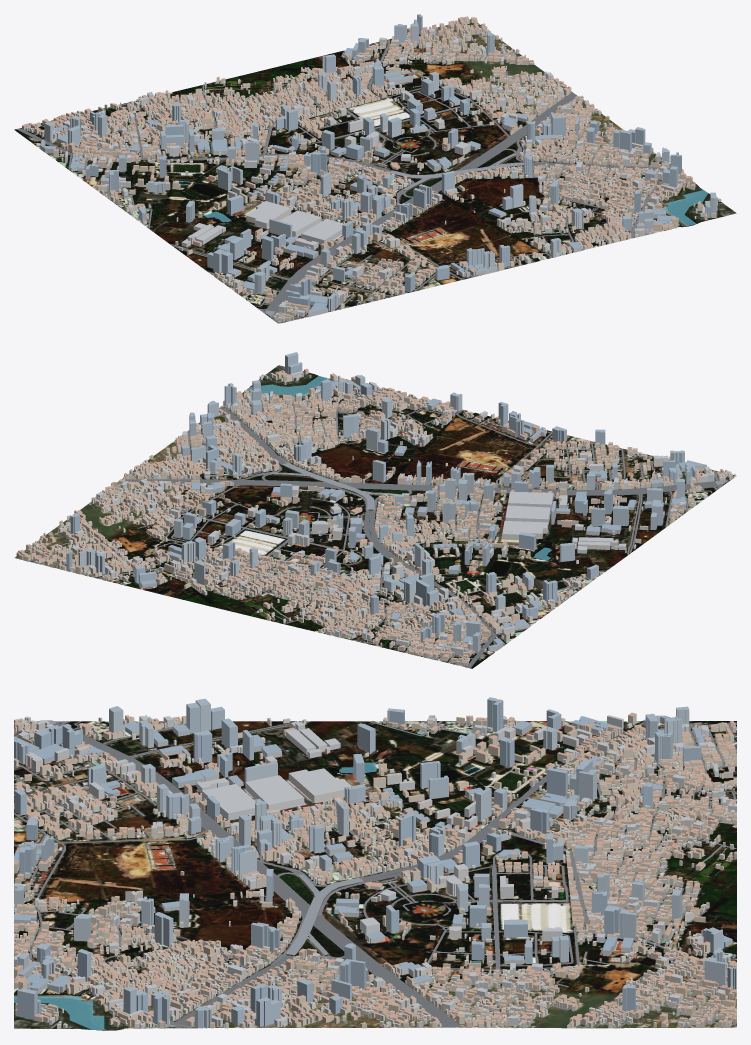
3 renders of one model, top to bottom at view 1: azimuth 30°, elevation 25°; view 2: azimuth 150°, elevation 25°; view 3: azimuth 270°, elevation 25°, orthographic. The views are drawn at different scales.
Parts seen in each view (by area): view 1: TERRAIN, BLDG_SHOPHOUSE, BLDG_MODERN_TOWER, BLDG_TUBE_HOUSE, BLDG_APARTMENT, ROAD_METRO, BLDG_INDUSTRIAL_PORT, WATER; view 2: TERRAIN, BLDG_SHOPHOUSE, BLDG_MODERN_TOWER, BLDG_TUBE_HOUSE, BLDG_APARTMENT, ROAD_METRO, BLDG_INDUSTRIAL_PORT, WATER; view 3: TERRAIN, BLDG_SHOPHOUSE, BLDG_MODERN_TOWER, BLDG_TUBE_HOUSE, BLDG_APARTMENT, ROAD_METRO, BLDG_INDUSTRIAL_PORT, WATER.
Part boxes in pixels (x1,y1,x2,y2): TERRAIN: (14,19,736,323); BLDG_SHOPHOUSE: (22,16,717,321); BLDG_MODERN_TOWER: (44,14,716,311); BLDG_TUBE_HOUSE: (25,19,721,323); BLDG_APARTMENT: (52,28,705,316); ROAD_METRO: (16,19,722,322); BLDG_INDUSTRIAL_PORT: (40,48,675,317); WATER: (204,189,707,226); TERRAIN: (14,365,736,668); BLDG_SHOPHOUSE: (16,368,728,666); BLDG_MODERN_TOWER: (66,352,696,652); BLDG_TUBE_HOUSE: (25,371,735,663); BLDG_APARTMENT: (61,371,714,655); ROAD_METRO: (17,375,733,668); BLDG_INDUSTRIAL_PORT: (140,378,706,651); WATER: (245,375,551,560); TERRAIN: (14,721,736,1030); BLDG_SHOPHOUSE: (14,712,736,1028); BLDG_MODERN_TOWER: (14,697,736,1028); BLDG_TUBE_HOUSE: (14,716,736,1028); BLDG_APARTMENT: (14,715,736,1026); ROAD_METRO: (14,720,736,1028); BLDG_INDUSTRIAL_PORT: (14,715,732,994); WATER: (14,762,376,1029).
Size of the model in its own units: 2000 by 95.8 by 2000.
8 materials, 1 textured.
